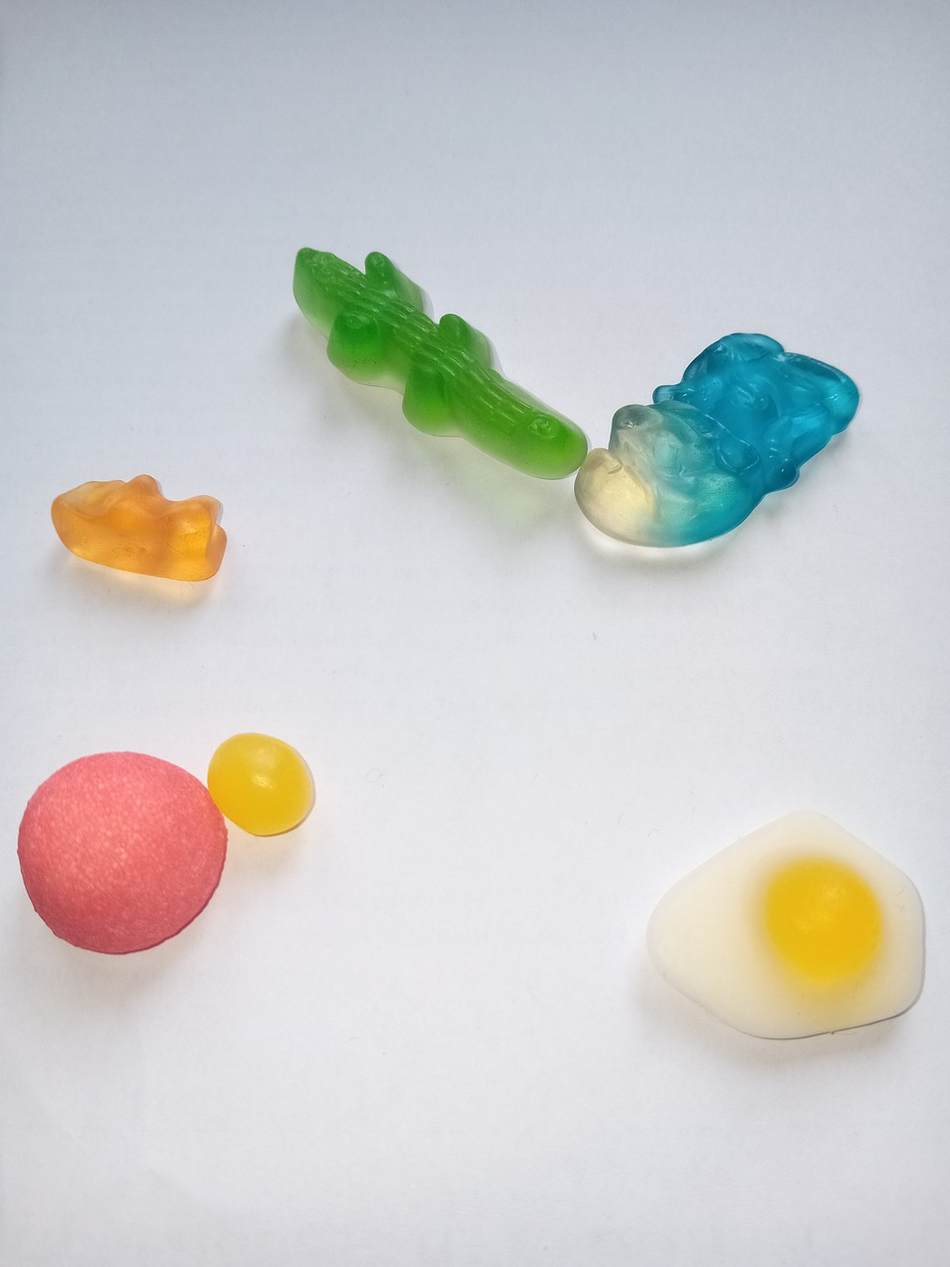crocodile_vert: (282, 234, 590, 484)
dragibus_jaune: (205, 725, 320, 837)
oeuf_oeuf: (639, 804, 932, 1044)
ourson_orangeClair: (45, 466, 234, 589)
schtroumpf_bleu-blanc: (572, 329, 865, 551)
tagada_fraise: (11, 749, 230, 959)
